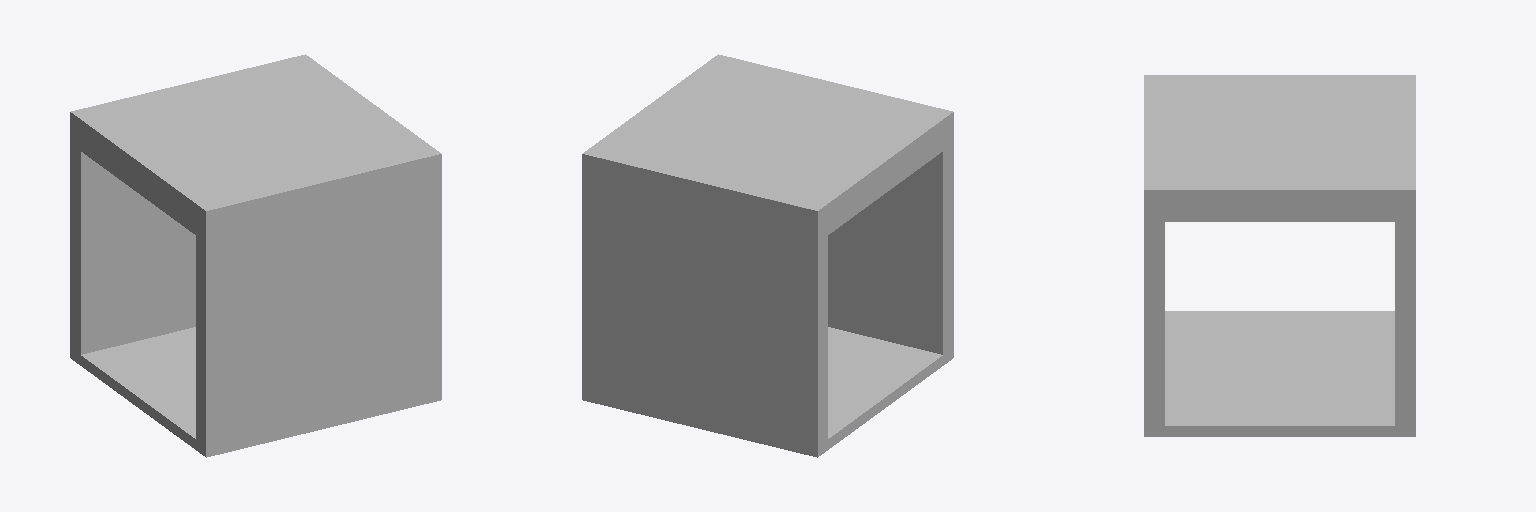
The model's file is connector.obj.
3 renders of one model, left to right at view 1: azimuth 30°, elevation 25°; view 2: azimuth 150°, elevation 25°; view 3: azimuth 270°, elevation 25°, orthographic.
Parts seen in each view (by area): view 1: Cube.001; view 2: Cube.001; view 3: Cube.001.
Part boxes in pixels (x1,y1,x2,y2): Cube.001: (70,54,441,457); Cube.001: (582,54,953,457); Cube.001: (1144,75,1415,436).
Size of the model in its own units: 4 by 4 by 4.